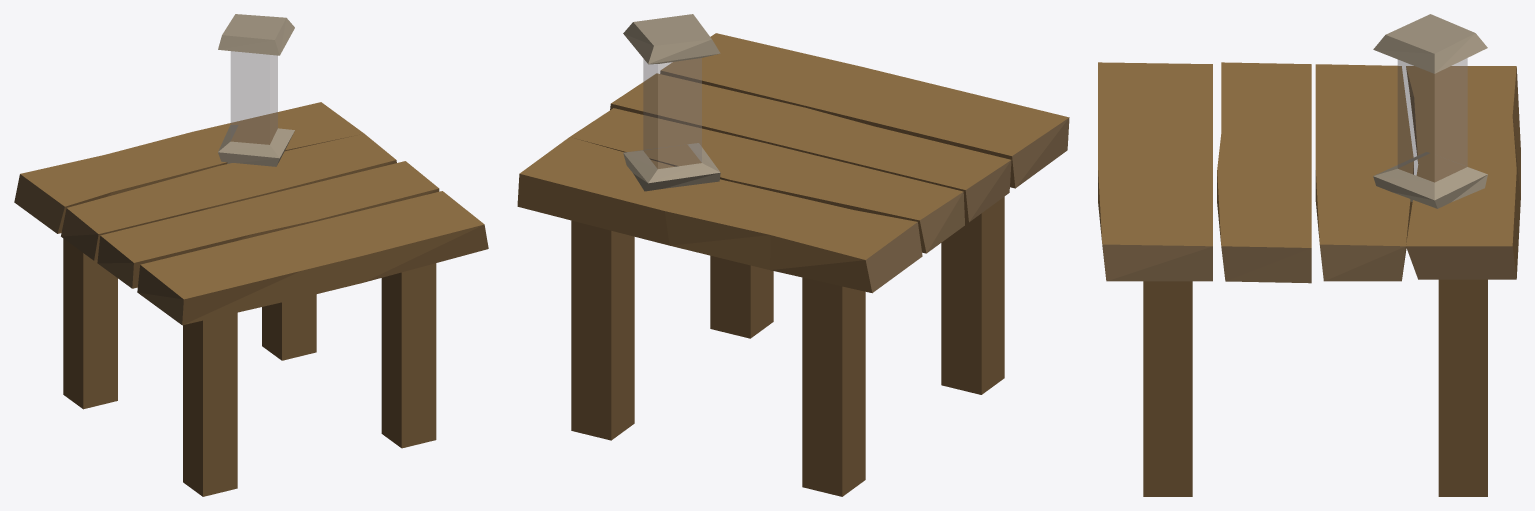
3 renders of one model, left to right at view 1: azimuth 30°, elevation 25°; view 2: azimuth 150°, elevation 25°; view 3: azimuth 270°, elevation 25°, orthographic. The views are drawn at different scales.
Bounding box in the file's own units: 108 × 114 × 103.
2 materials, 2 textured.
